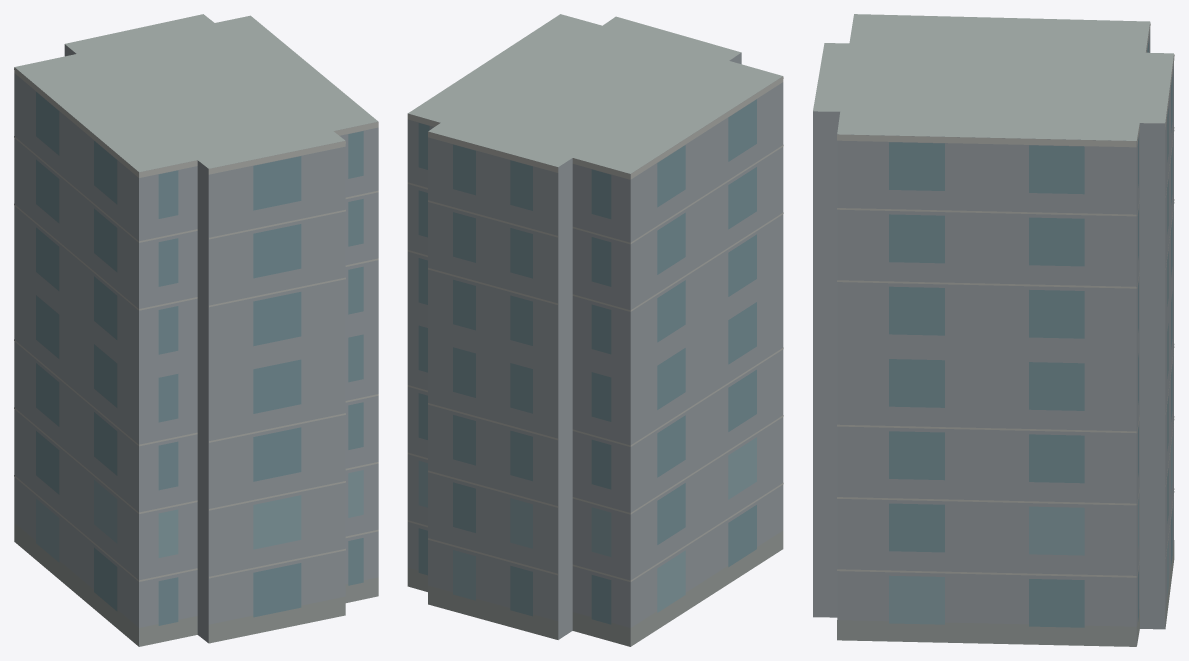
File: survey-upis-32760560.glb
The picture shows the model from 3 angles, left to right: view 1: azimuth 30°, elevation 25°; view 2: azimuth 150°, elevation 25°; view 3: azimuth 270°, elevation 25°; orthographic projection. The views are drawn at different scales.
Visible parts, largest first — view 1: survey-upis-32760560.tmp; view 2: survey-upis-32760560.tmp; view 3: survey-upis-32760560.tmp.
Part boxes in pixels (bbox=[...]): survey-upis-32760560.tmp: bbox=[14, 14, 378, 646]; survey-upis-32760560.tmp: bbox=[407, 14, 783, 646]; survey-upis-32760560.tmp: bbox=[813, 14, 1174, 646].
Bounding box in the file's own units: 10.58 × 19.6 × 12.71.
